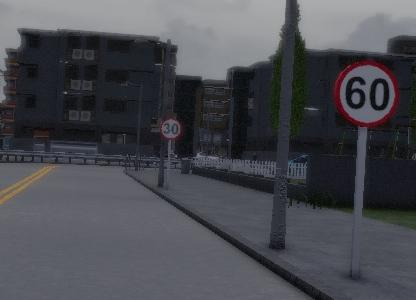Speed_60: (335, 61, 399, 130)
